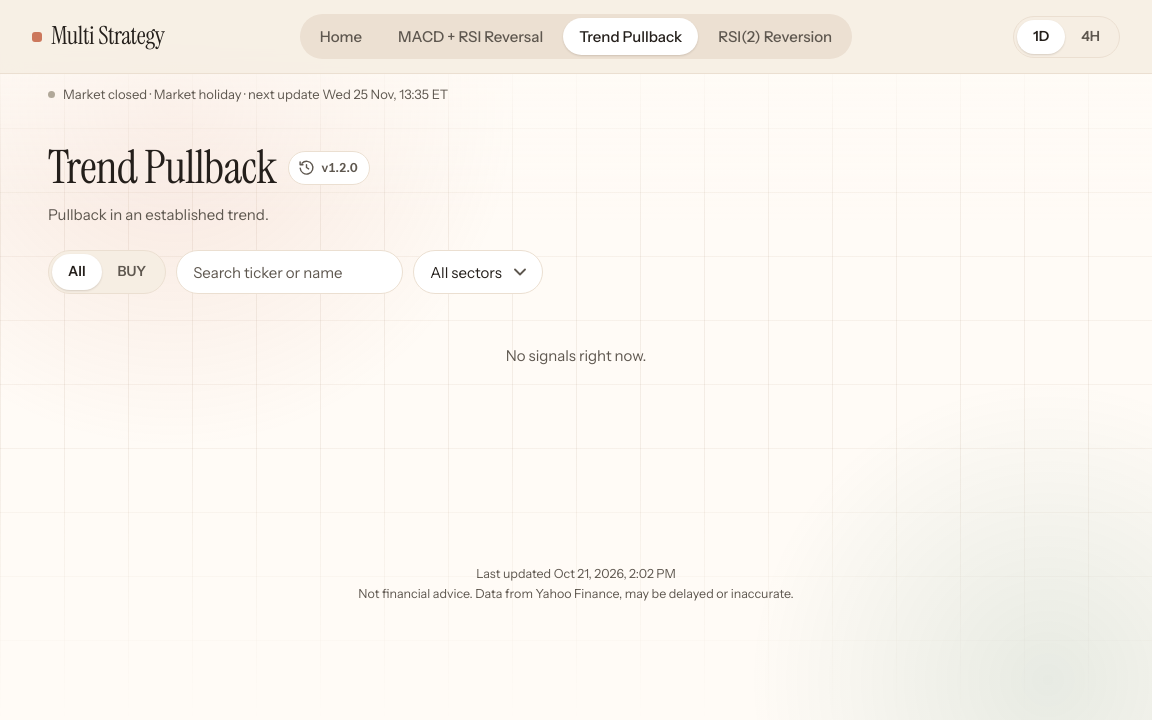
Test: strategy change history › closes the overlay again
The image size is (1152, 720).
Expected: the heading "Trend Pullback" is shown, [48,142,276,193]
Click the button named "change history": (329, 168) [288,151,370,185]
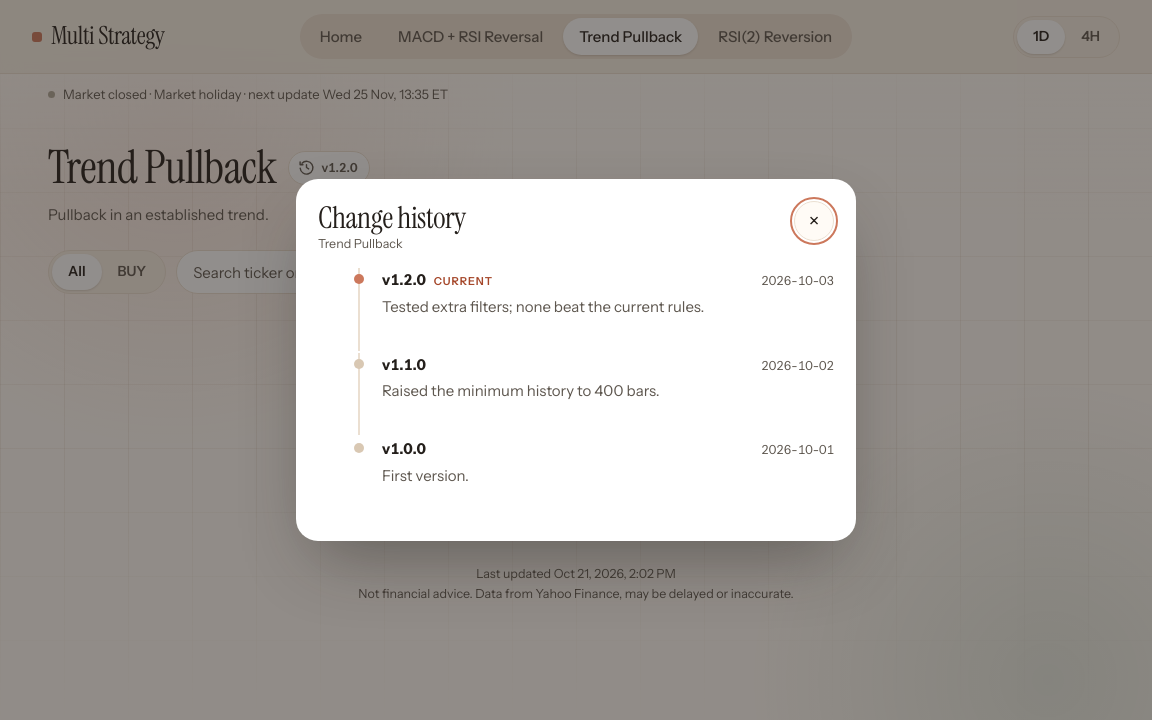
Click the button named "close change history": (814, 221) [794,201,834,241]
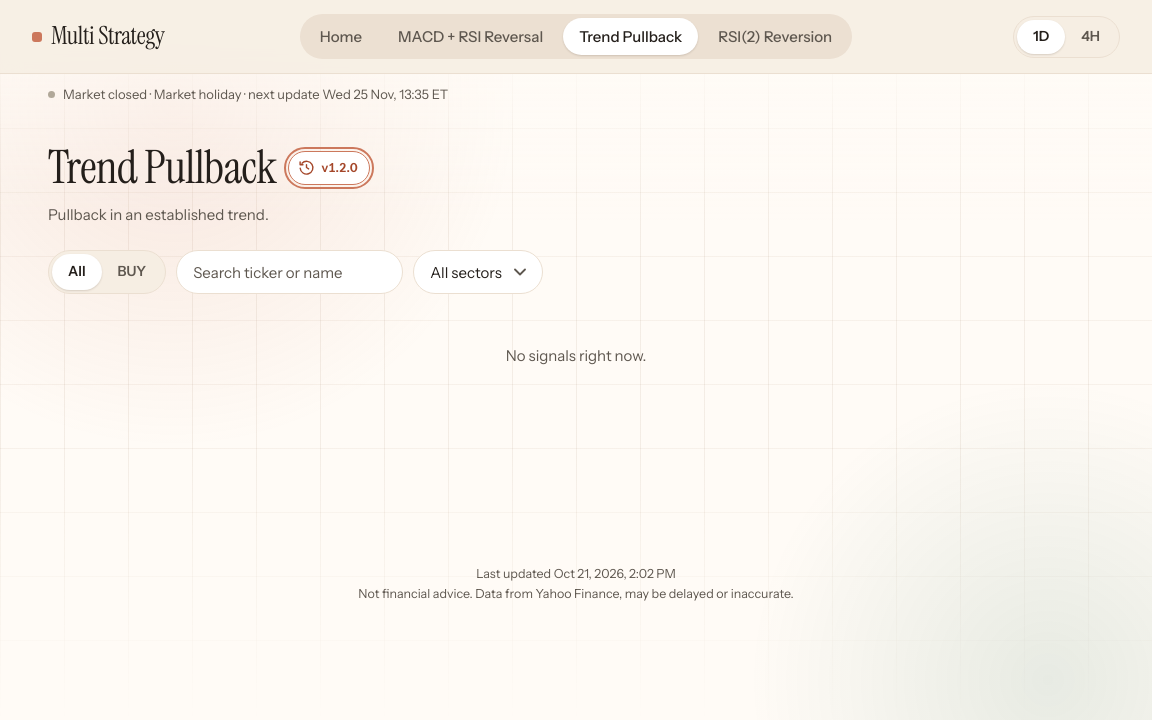
Now the dialog is gone
